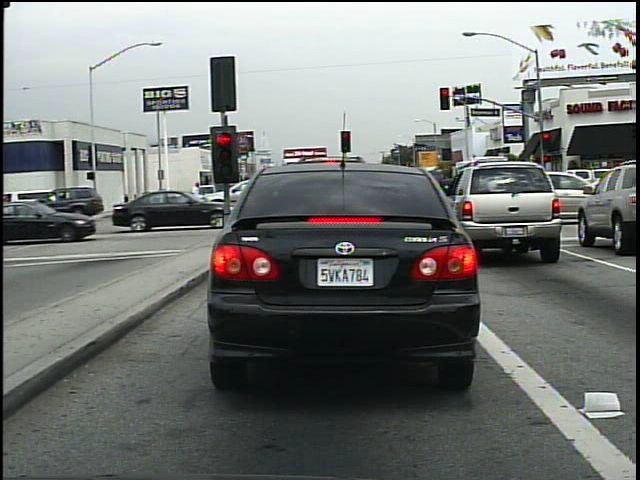person: (185, 177, 207, 216)
